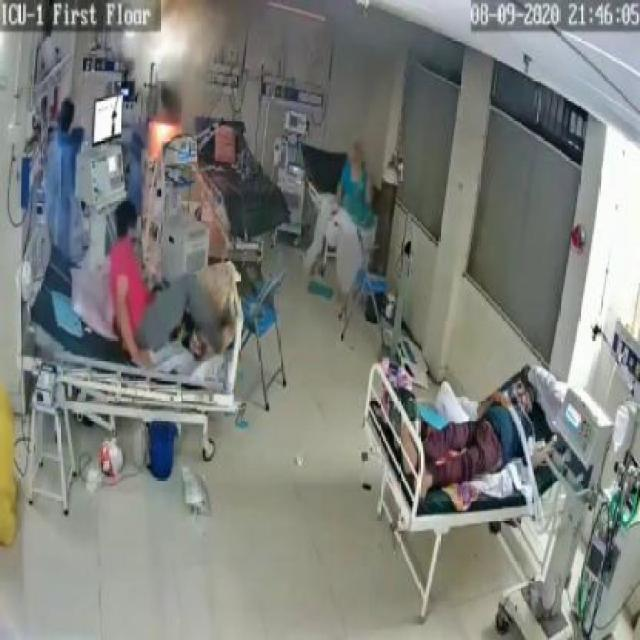fire: (142, 120, 184, 162)
smoke: (158, 4, 224, 101)
